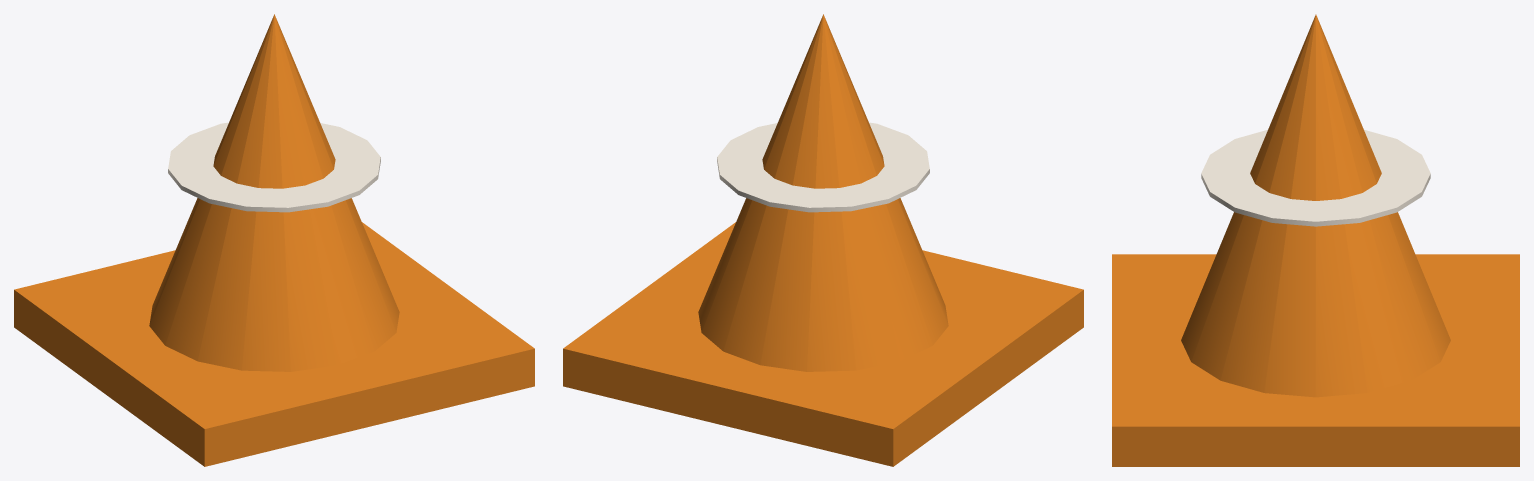
The model's file is traffic_cone.glb.
3 views of the same model, side by side, from view 1: azimuth 30°, elevation 25°; view 2: azimuth 150°, elevation 25°; view 3: azimuth 270°, elevation 25° (orthographic). The views are drawn at different scales.
Visible parts, largest first — view 1: base, orange_cone, stripe; view 2: base, orange_cone, stripe; view 3: base, orange_cone, stripe.
Part boxes in pixels (x1=…): base: x1=14, y1=222, x2=534, y2=466; orange_cone: x1=149, y1=14, x2=399, y2=371; stripe: x1=168, y1=122, x2=380, y2=212; base: x1=563, y1=222, x2=1083, y2=466; orange_cone: x1=698, y1=14, x2=948, y2=371; stripe: x1=717, y1=122, x2=929, y2=212; base: x1=1112, y1=254, x2=1519, y2=466; orange_cone: x1=1181, y1=14, x2=1450, y2=397; stripe: x1=1201, y1=129, x2=1430, y2=226.
Bounding box in the file's own units: 0.32 × 0.32 × 0.32.
